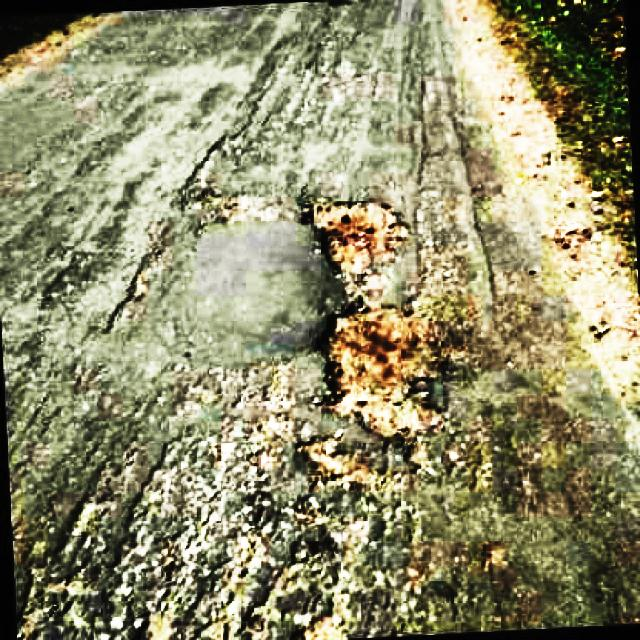pothole: (318, 297, 451, 440), (302, 192, 408, 278)
